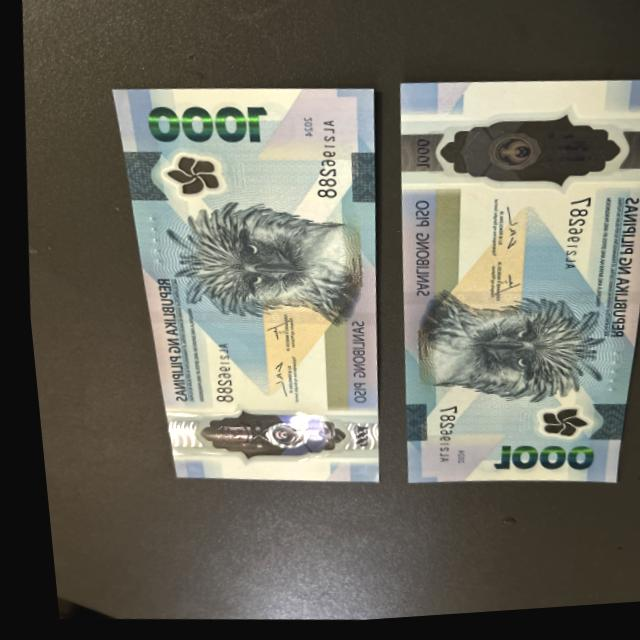clear_window: (395, 110, 639, 208), (174, 401, 345, 484)
eagle: (391, 294, 598, 424), (165, 205, 357, 331)
sampaguita: (151, 151, 230, 208), (524, 410, 585, 452)
serial_number: (541, 198, 606, 289), (300, 114, 356, 209), (190, 332, 239, 414), (421, 403, 460, 468)
value: (138, 101, 273, 155), (480, 441, 598, 487)
